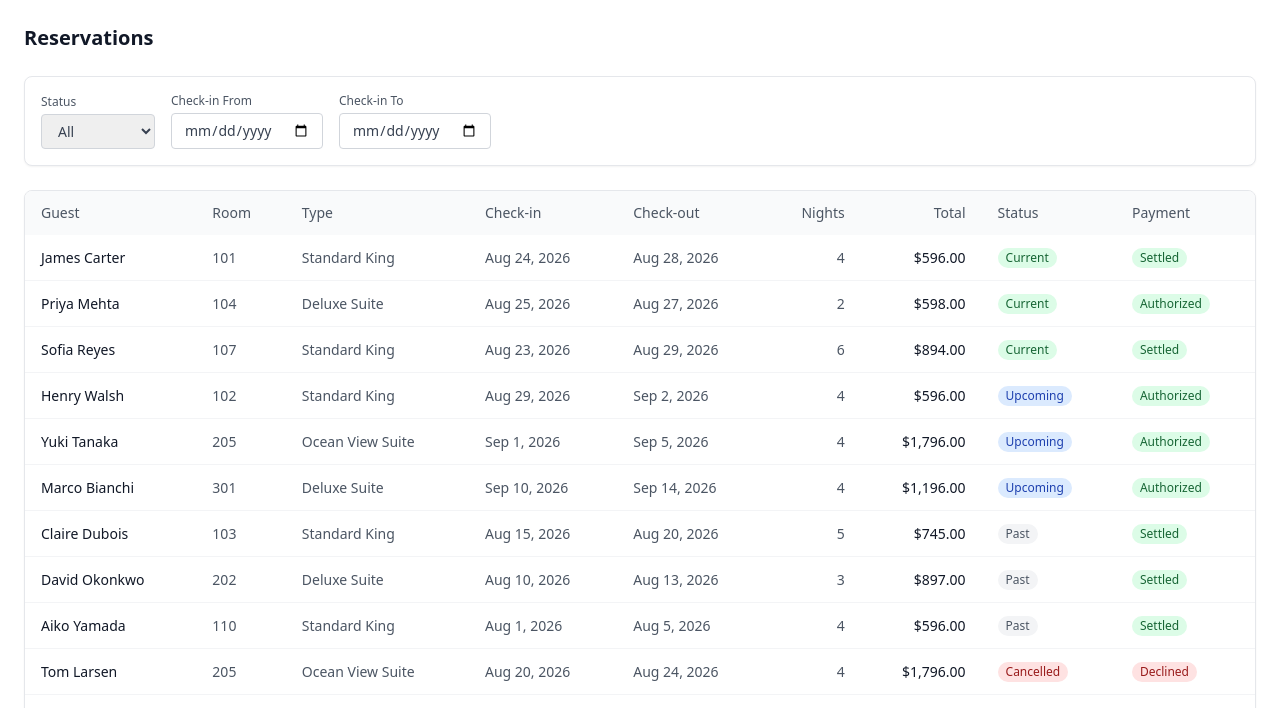
Test case: clicking the same row again collapses the panel
Click the row with test id "reservation-row-res1": [640, 258] box [25,235,1255,280]
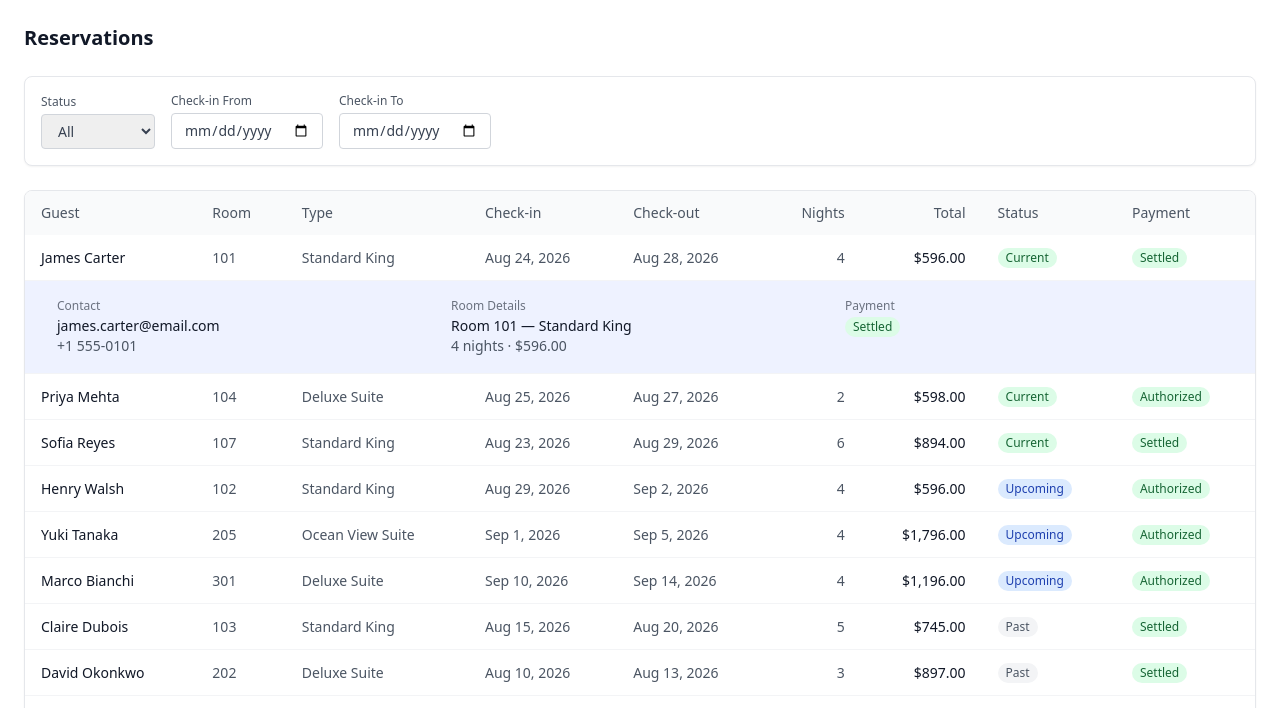
Result: the row with test id "reservation-detail-res1" is shown at [25,280,1255,374]
Click the row with test id "reservation-row-res1": [640, 258] box [25,235,1255,280]
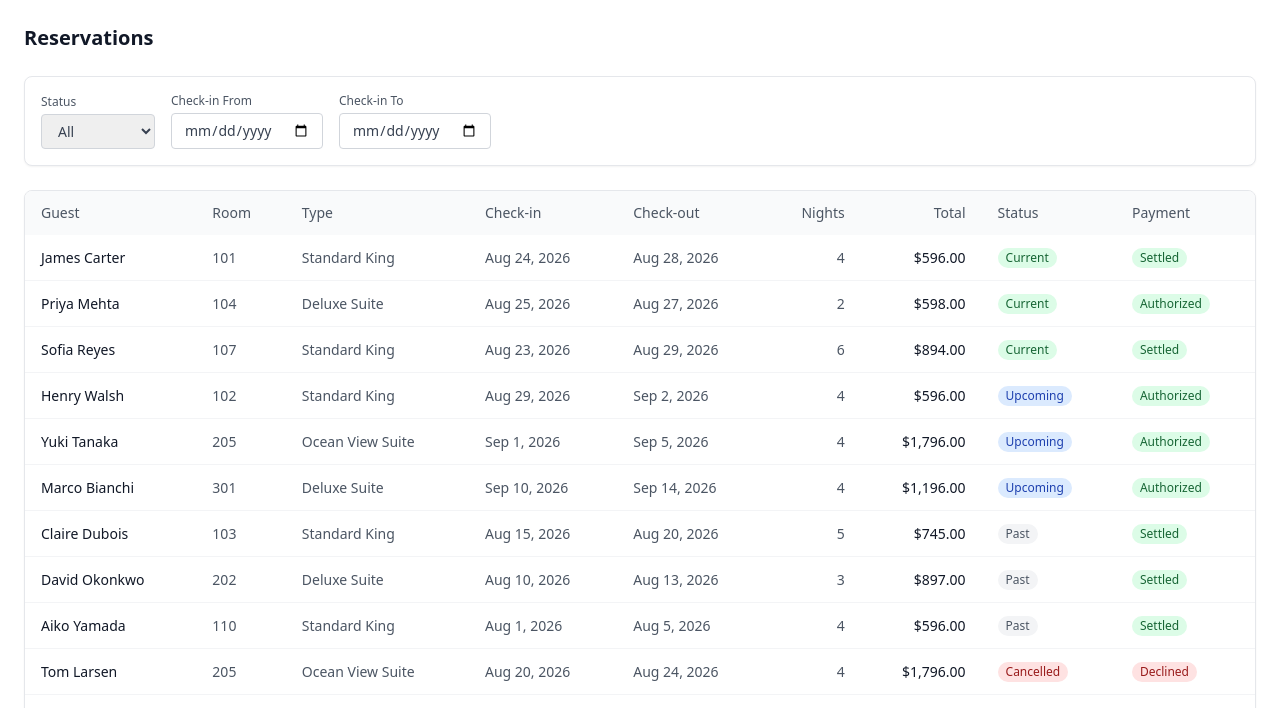
Result: the row with test id "reservation-detail-res1" is gone
